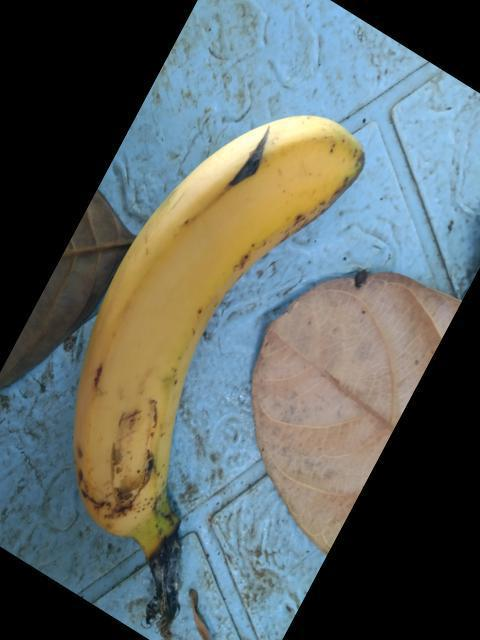ripe: (53, 96, 373, 546)
